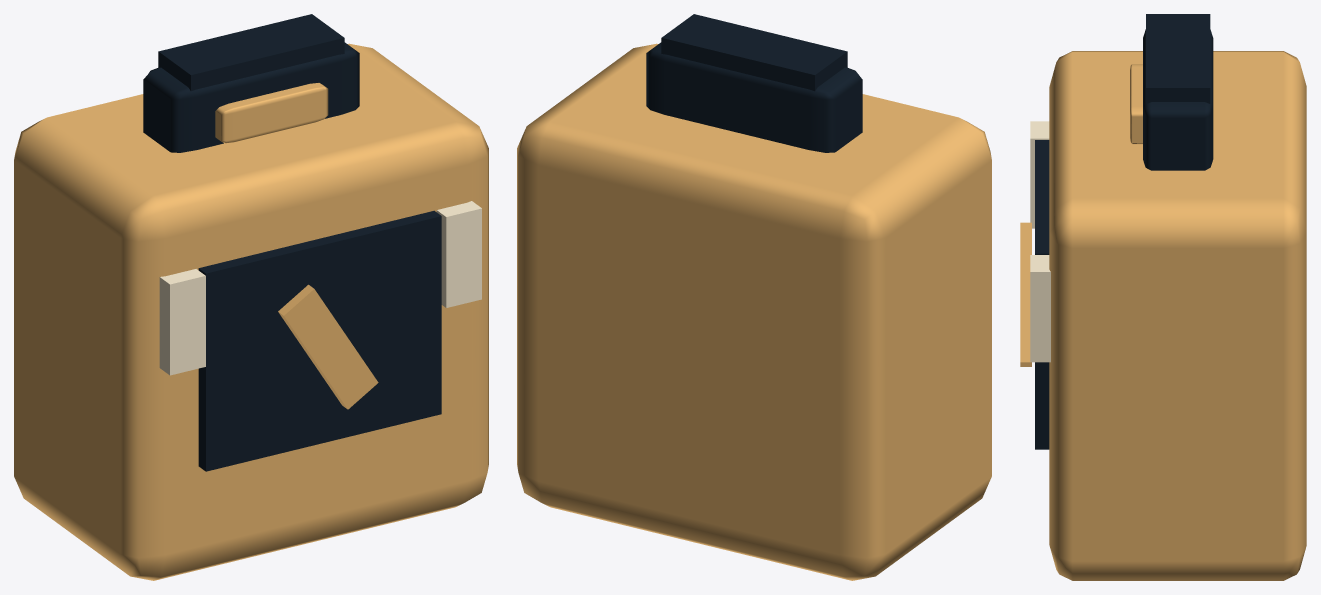
Rendered from item-repair.glb.
3 views of the same model, side by side, from view 1: azimuth 30°, elevation 25°; view 2: azimuth 150°, elevation 25°; view 3: azimuth 270°, elevation 25° (orthographic).
Visible parts, largest first — view 1: package, label, carry-handle, tool-case-clasp (×2), handle, tool, handle-opening; view 2: package, carry-handle, handle; view 3: package, handle, carry-handle, tool-case-clasp (×2), label, tool, handle-opening.
Boxes of the visible parts, x1,y1,x2,y2 form: package: (14,43,488,580); label: (198,210,441,471); carry-handle: (143,42,359,152); tool-case-clasp (×2): (159,201,481,375); handle: (158,14,344,91); tool: (278,284,378,409); handle-opening: (215,83,328,143); package: (517,43,991,580); carry-handle: (646,42,862,152); handle: (661,14,847,91); package: (1049,51,1306,580); handle: (1146,14,1210,103); carry-handle: (1143,29,1213,170); tool-case-clasp (×2): (1030,121,1050,362); label: (1035,140,1049,449); tool: (1020,222,1031,366); handle-opening: (1130,64,1142,144).
Size of the model in its own units: 0.72 by 0.86 by 0.49.
